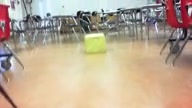cube: (84, 34, 107, 54)
